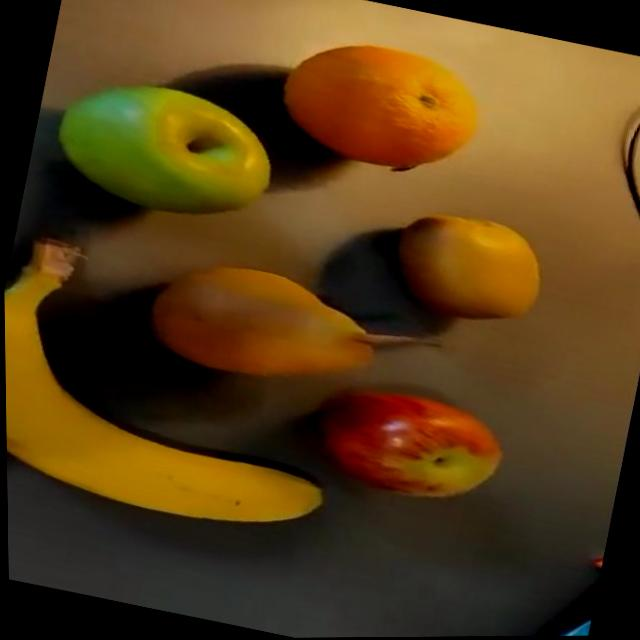Apple: (29, 54, 301, 262), (303, 377, 511, 516)
Banana: (3, 228, 364, 548)
Orange: (269, 29, 488, 189)
